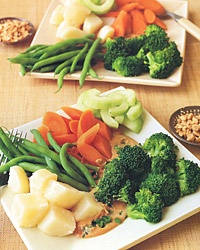background: (0, 34, 62, 93), (2, 0, 57, 37)
